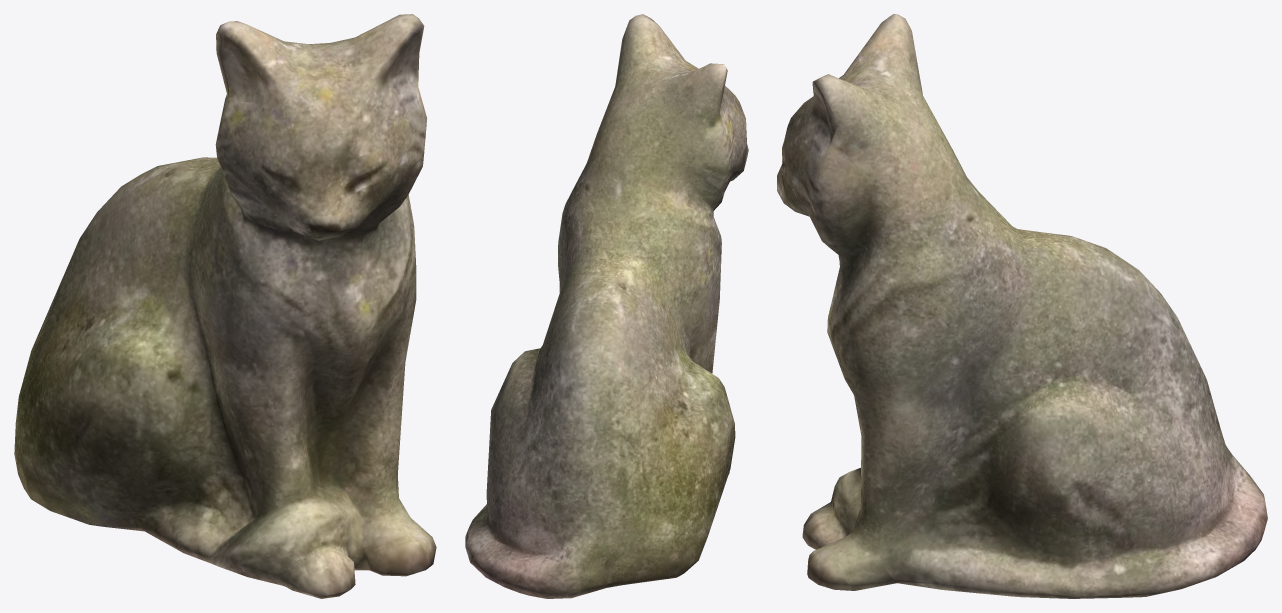
The model's file is concrete_cat_statue.glb.
3 views of the same model, side by side, from view 1: azimuth 30°, elevation 25°; view 2: azimuth 150°, elevation 25°; view 3: azimuth 270°, elevation 25° (orthographic). The views are drawn at different scales.
Visible parts, largest first — view 1: concrete_cat_statue; view 2: concrete_cat_statue; view 3: concrete_cat_statue.
Part boxes in pixels (box(x1,y1,x2,y2)): concrete_cat_statue: box(14, 14, 436, 598); concrete_cat_statue: box(465, 14, 748, 598); concrete_cat_statue: box(777, 14, 1267, 598).
Bounding box in the file's own units: 0.1519 × 0.2825 × 0.2492.
Materials: 1 (1 with a texture image).
